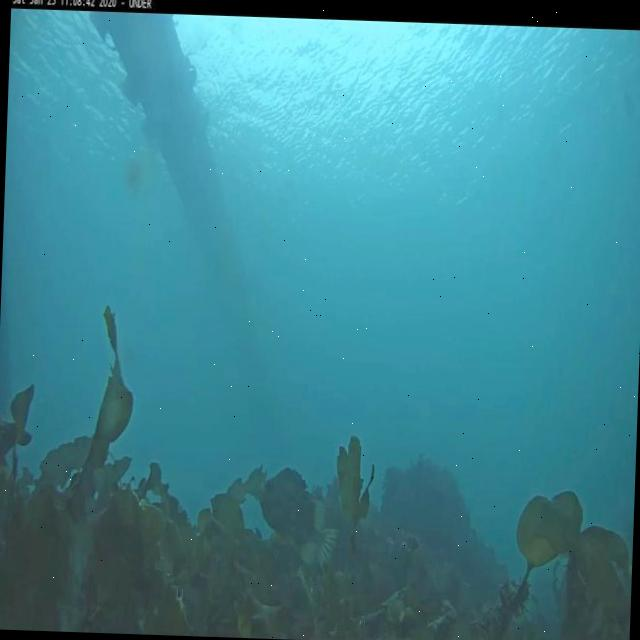fish: (258, 466, 343, 572)
